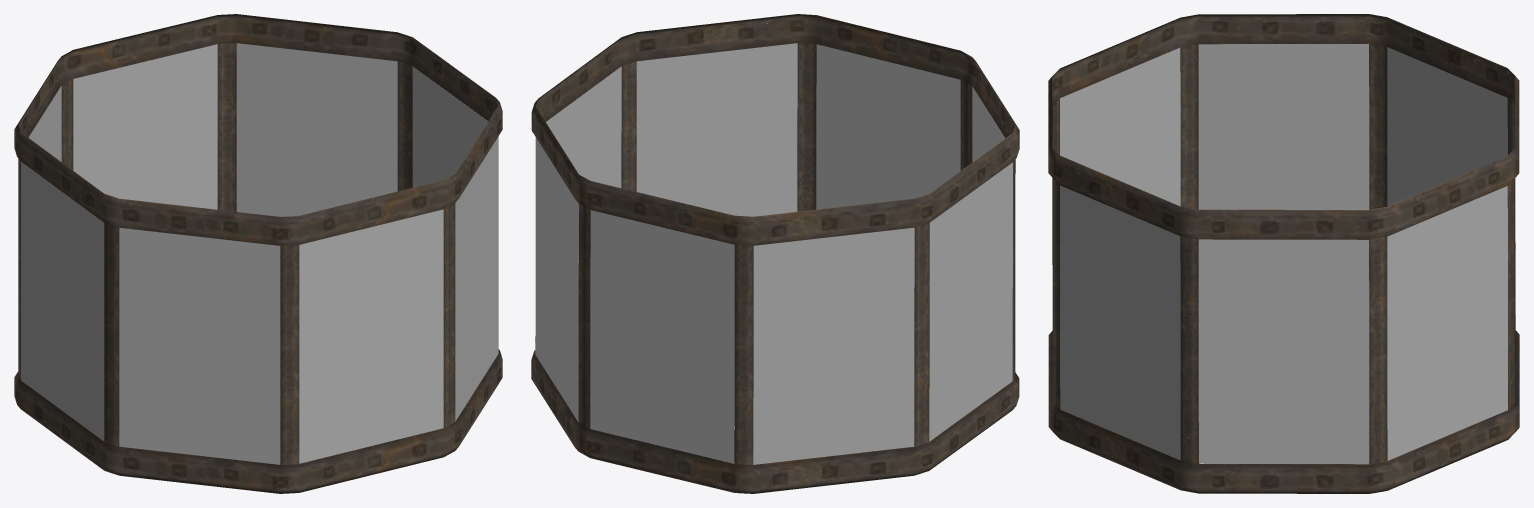
3 views of the same model, side by side, from view 1: azimuth 30°, elevation 25°; view 2: azimuth 150°, elevation 25°; view 3: azimuth 270°, elevation 25° (orthographic). The views are drawn at different scales.
Visible parts, largest first — view 1: SM_Dowdun_Corner_Turret_06_LOD0; view 2: SM_Dowdun_Corner_Turret_06_LOD0; view 3: SM_Dowdun_Corner_Turret_06_LOD0.
Boxes of the visible parts, box(x1,y1,x2,y2) form: SM_Dowdun_Corner_Turret_06_LOD0: box(14, 14, 502, 493); SM_Dowdun_Corner_Turret_06_LOD0: box(531, 14, 1019, 493); SM_Dowdun_Corner_Turret_06_LOD0: box(1048, 14, 1519, 493).
Bounding box in the file's own units: 6.02 × 4.01 × 6.02.
